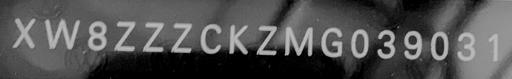letter: (40, 17, 80, 48), (282, 24, 316, 57), (252, 22, 282, 57), (80, 16, 110, 49), (195, 22, 225, 55), (9, 17, 37, 52), (138, 18, 166, 53), (110, 17, 138, 50), (318, 24, 346, 57), (452, 28, 480, 61), (426, 27, 452, 62), (226, 22, 252, 55), (345, 25, 371, 58), (400, 26, 426, 59), (372, 25, 396, 60), (168, 22, 194, 53), (480, 28, 504, 61)
